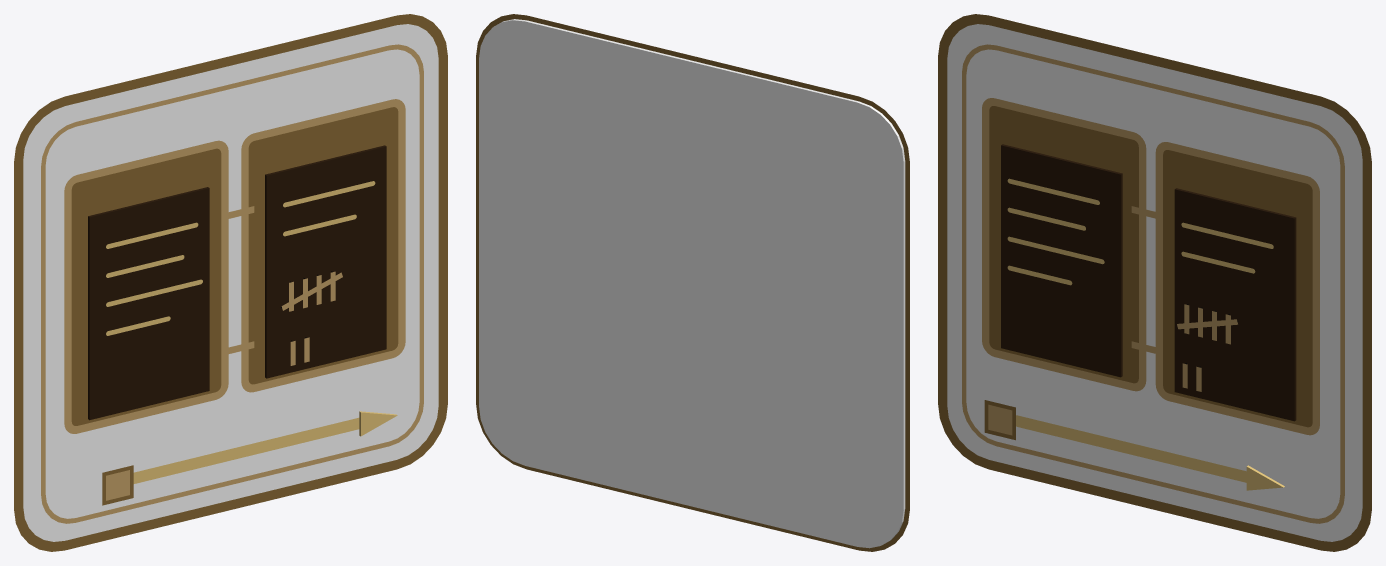
Rendered from obj-voskovaya-tablichka.glb.
3 renders of one model, left to right at view 1: azimuth 30°, elevation 25°; view 2: azimuth 150°, elevation 25°; view 3: azimuth 330°, elevation 25°, orthographic.
Visible parts, largest first — view 1: obj-voskovaya-tablichka; view 2: obj-voskovaya-tablichka; view 3: obj-voskovaya-tablichka.
Boxes of the visible parts, left/top/right/bottom form: obj-voskovaya-tablichka: left=14, top=14, right=447, bottom=551; obj-voskovaya-tablichka: left=476, top=14, right=909, bottom=551; obj-voskovaya-tablichka: left=938, top=14, right=1371, bottom=551.
Bounding box in the file's own units: 0.3917 × 0.3917 × 0.0351.
